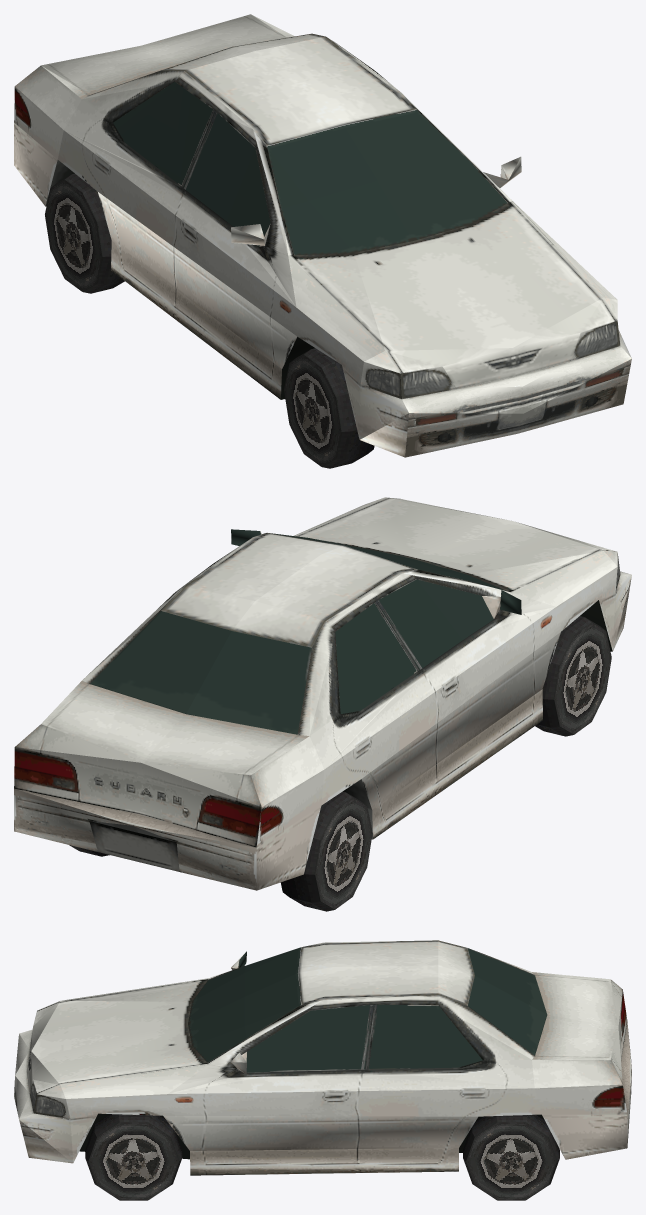
The model's file is Subaru.fbx.
The picture shows the model from 3 angles, top to bottom: view 1: azimuth 30°, elevation 25°; view 2: azimuth 150°, elevation 25°; view 3: azimuth 270°, elevation 25°; orthographic projection. The views are drawn at different scales.
Parts seen in each view (by area): view 1: SubaruImpreza, sub_imp_fr, sub_imp_rr; view 2: SubaruImpreza, sub_imp_rr, sub_imp_fr; view 3: SubaruImpreza, sub_imp_fl, sub_imp_rl.
Boxes of the visible parts, x1,y1,x2,y2 form: SubaruImpreza: [14, 14, 631, 457]; sub_imp_fr: [284, 348, 374, 468]; sub_imp_rr: [45, 173, 124, 293]; SubaruImpreza: [14, 497, 631, 890]; sub_imp_rr: [280, 791, 372, 911]; sub_imp_fr: [535, 616, 611, 736]; SubaruImpreza: [14, 940, 631, 1175]; sub_imp_fl: [85, 1114, 182, 1200]; sub_imp_rl: [463, 1114, 559, 1200].
Bounding box in the file's own units: 492 × 387 × 1149.
2 materials, 2 textured.
